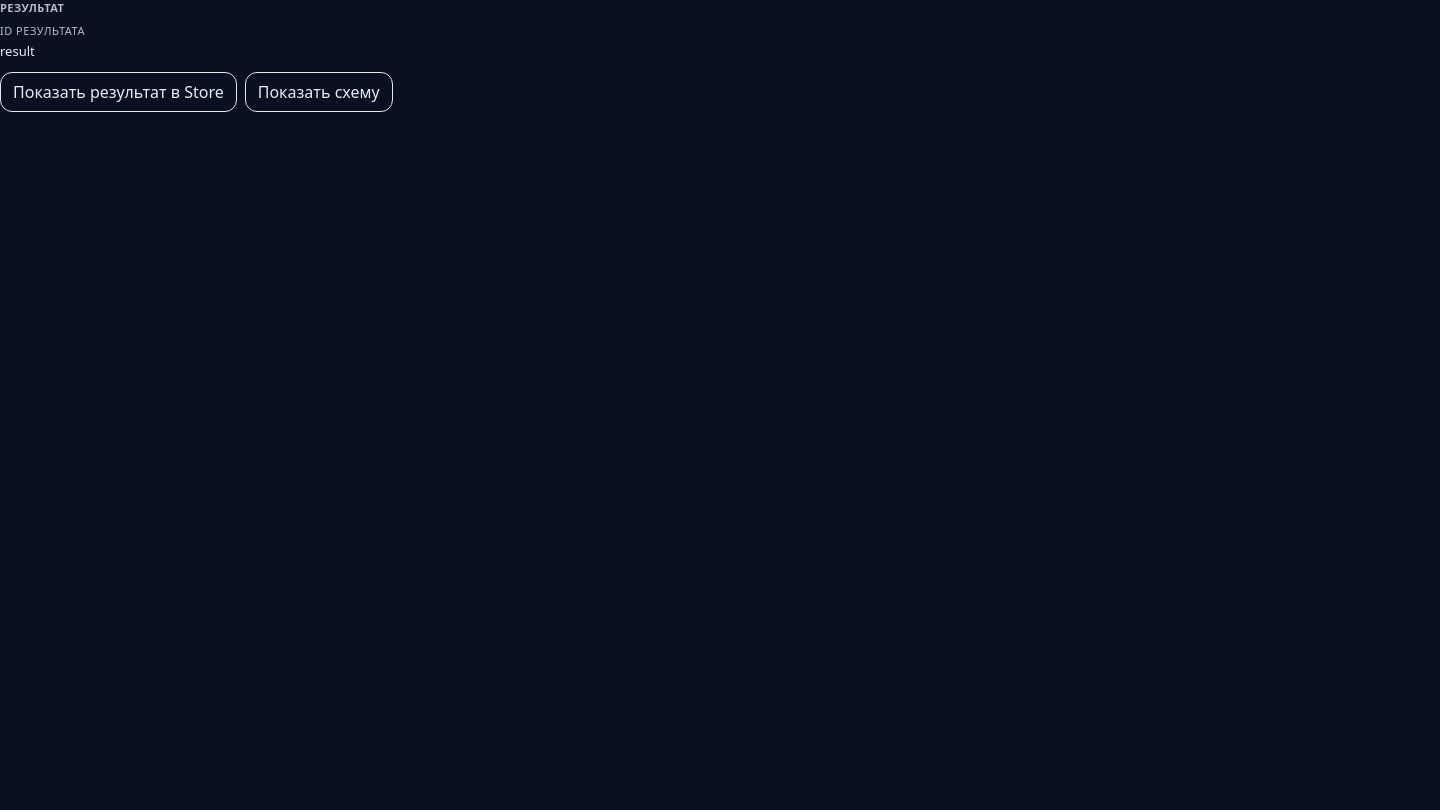
StoredResultCard › checks availability, displays schema and opens paginated data
expect the button "Показать результат в Store" is enabled: met, box top-left (0, 72), bottom-right (237, 112)
expect the text "ID результата" is shown: met, box top-left (0, 23), bottom-right (85, 38)
Click the button "Показать схему": [319, 92] box top-left (245, 72), bottom-right (393, 112)
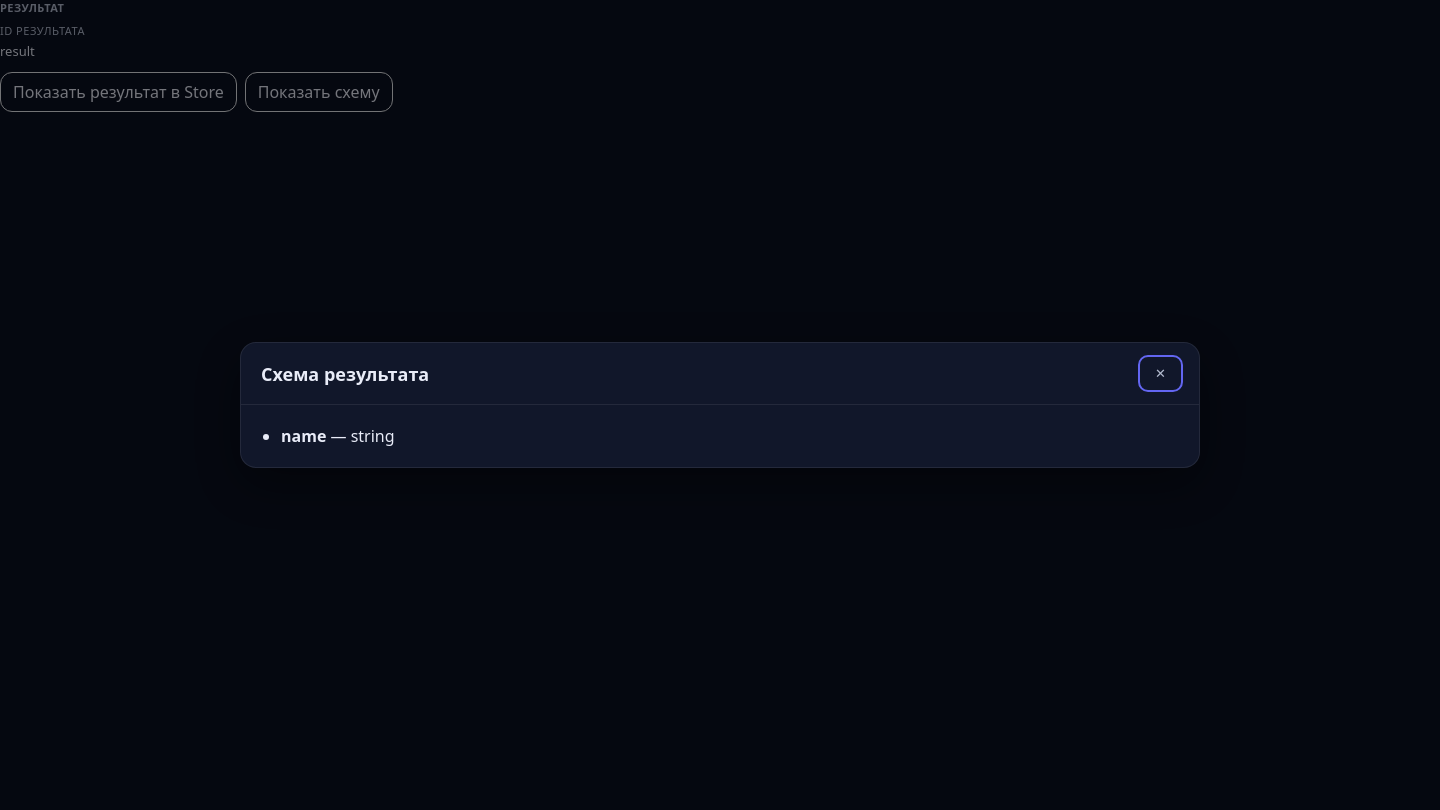
expect the text "name" is shown: met, box top-left (281, 425), bottom-right (326, 447)
Click the button named "Закрыть": [1161, 374] box top-left (1142, 359), bottom-right (1179, 388)
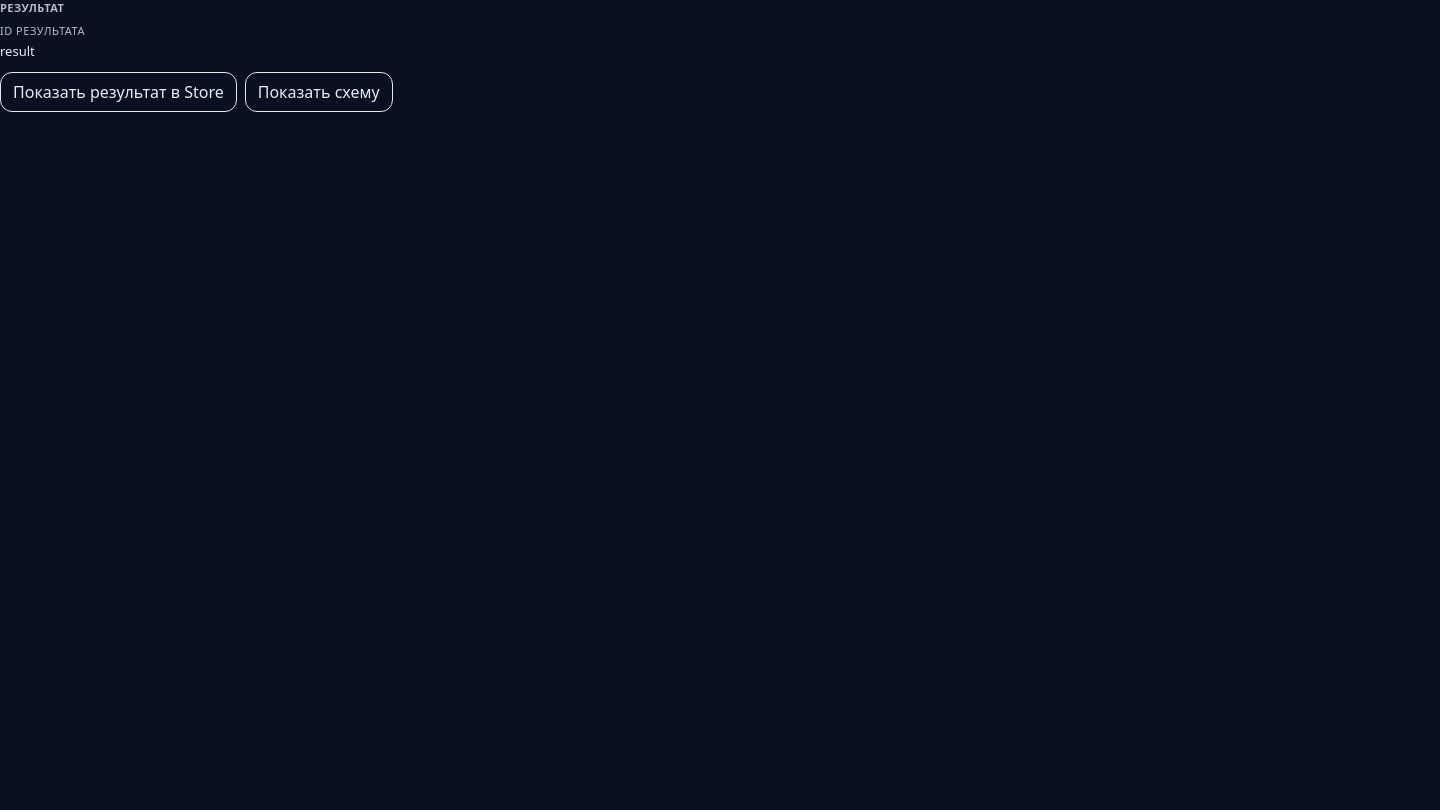
Click the button "Показать результат в Store": [118, 92] box top-left (0, 72), bottom-right (237, 112)
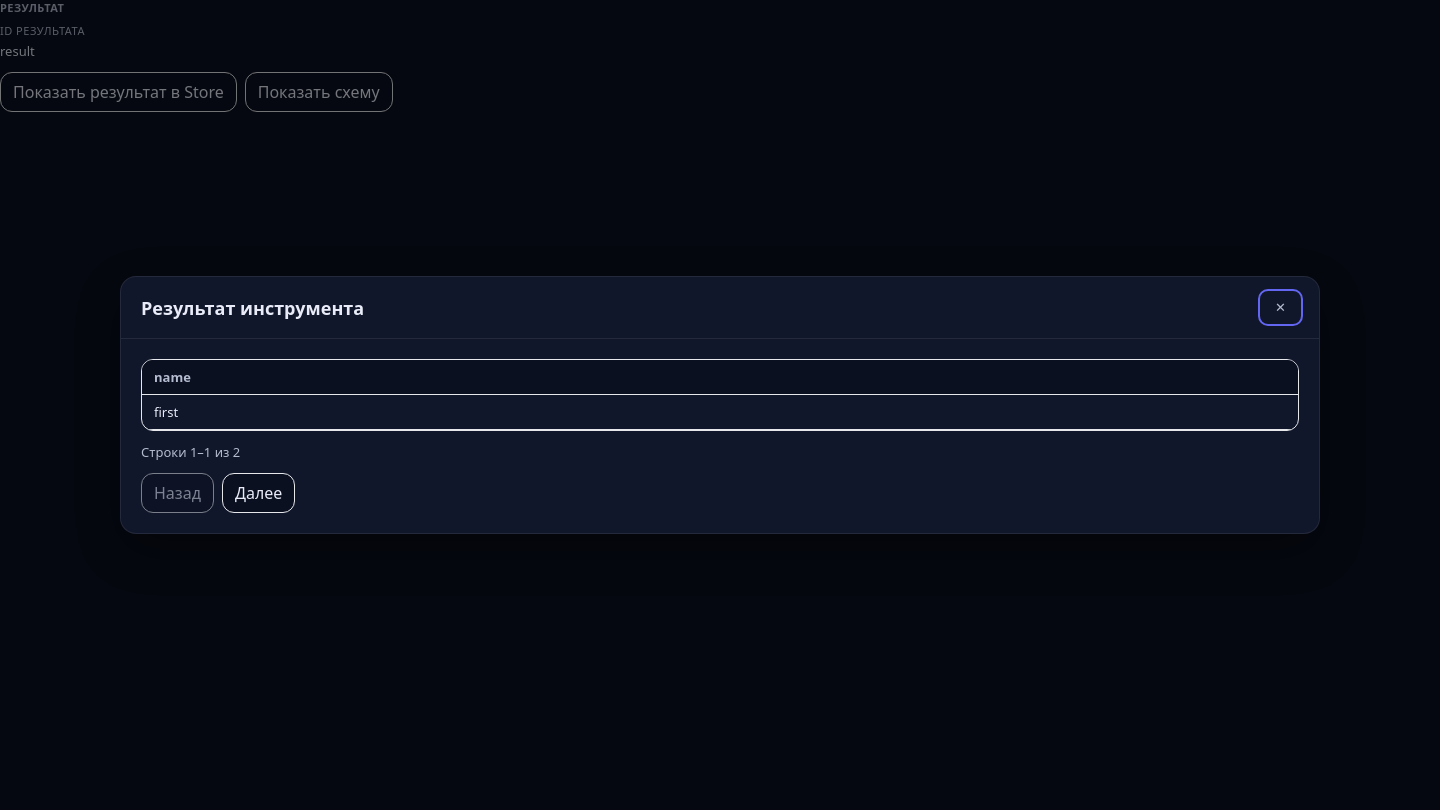
expect the text "first" is shown: met, box top-left (142, 394), bottom-right (1298, 429)
Click the button "Далее": [259, 493] box top-left (222, 473), bottom-right (295, 513)
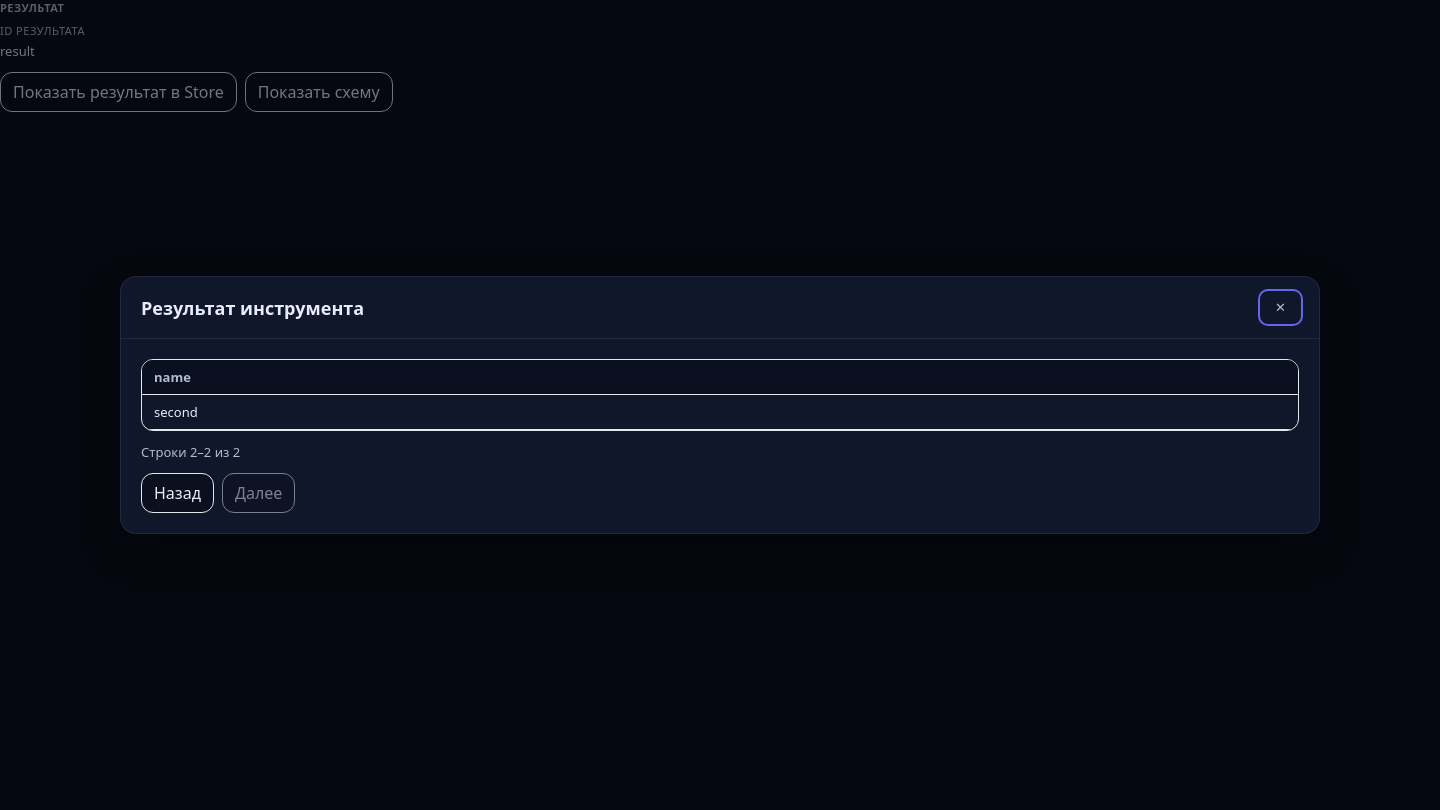
expect the text "second" is shown: met, box top-left (142, 394), bottom-right (1298, 429)
